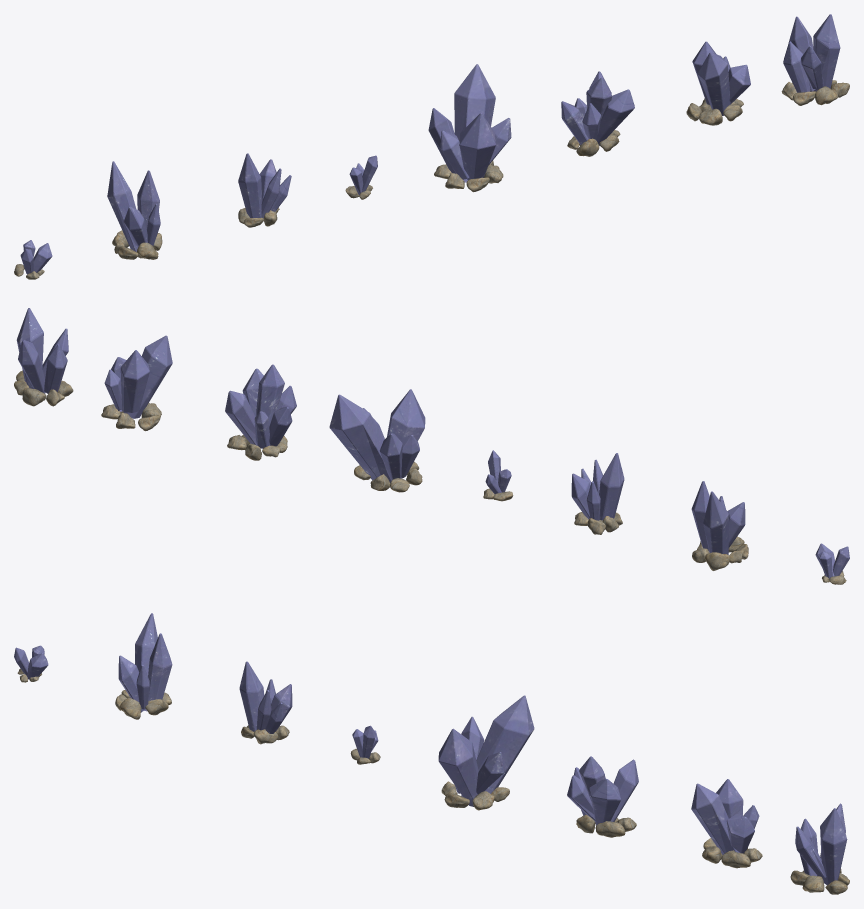
The model's file is crystals.dae.
3 renders of one model, top to bottom at view 1: azimuth 30°, elevation 25°; view 2: azimuth 150°, elevation 25°; view 3: azimuth 330°, elevation 25°, orthographic.
Parts seen in each view (by area): view 1: crystal_2_bevel, crystal_3_bevel, crystal_4_bevel, crystal_5_bevel, crystal_1_bevel, crystal_6_bevel, rocks_3, rocks_2, rocks_1, rocks_5, crystal_8_bevel, rocks_4 (+1 smaller); view 2: crystal_2_bevel, crystal_4_bevel, crystal_1_bevel, crystal_3_bevel, crystal_5_bevel, crystal_6_bevel, rocks_5, rocks_1, rocks_3, rocks_2, rocks_4, crystal_8_bevel (+2 smaller); view 3: crystal_2_bevel, crystal_1_bevel, crystal_4_bevel, crystal_5_bevel, crystal_3_bevel, crystal_6_bevel, rocks_2, rocks_1, rocks_3, rocks_4, rocks_5, crystal_8_bevel (+2 smaller).
Boxes of the visible parts, box(x1,y1,x2,y2) form: crystal_2_bevel: box(428, 64, 511, 182); crystal_3_bevel: box(783, 14, 840, 92); crystal_4_bevel: box(561, 71, 634, 145); crystal_5_bevel: box(107, 161, 160, 251); crystal_1_bevel: box(692, 41, 750, 115); crystal_6_bevel: box(238, 153, 291, 221); rocks_3: box(781, 80, 849, 105); rocks_2: box(434, 160, 503, 192); rocks_1: box(686, 98, 743, 125); rocks_5: box(112, 230, 162, 259); crystal_8_bevel: box(20, 240, 52, 274); rocks_4: box(567, 130, 620, 156); crystal_2_bevel: box(329, 389, 425, 482); crystal_4_bevel: box(225, 364, 296, 448); crystal_1_bevel: box(104, 335, 172, 418); crystal_3_bevel: box(16, 308, 68, 393); crystal_5_bevel: box(691, 481, 745, 554); crystal_6_bevel: box(571, 453, 624, 520); rocks_5: box(692, 536, 748, 570); rocks_1: box(101, 403, 161, 431); rocks_3: box(14, 370, 73, 406); rocks_2: box(354, 461, 422, 492); rocks_4: box(227, 435, 287, 460); crystal_8_bevel: box(815, 543, 849, 578); crystal_2_bevel: box(438, 695, 534, 806); crystal_1_bevel: box(691, 779, 759, 854); crystal_4_bevel: box(567, 756, 638, 825); crystal_5_bevel: box(118, 613, 172, 712); crystal_3_bevel: box(795, 803, 847, 885); crystal_6_bevel: box(239, 661, 292, 733); rocks_2: box(441, 781, 509, 810); rocks_1: box(702, 838, 762, 868); rocks_3: box(790, 868, 849, 894); rocks_4: box(576, 814, 636, 837); rocks_5: box(115, 690, 171, 719); crystal_8_bevel: box(14, 645, 48, 679).
Size of the model in its own units: 71.76 by 7.44 by 8.17.
2 materials, 2 textured.
